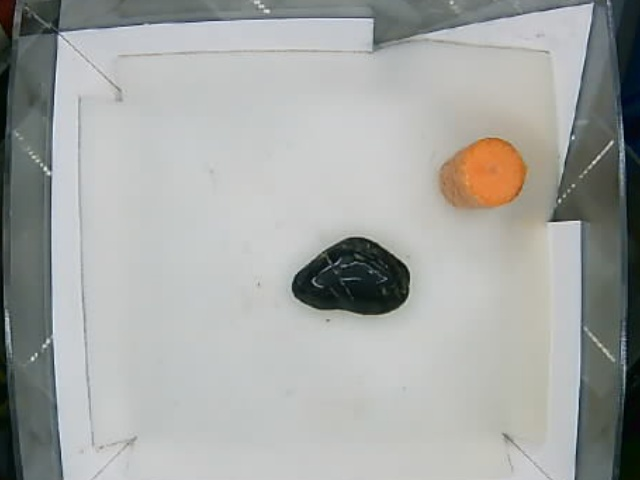Carrot: (439, 135, 530, 212)
Pebble: (290, 237, 410, 313)
